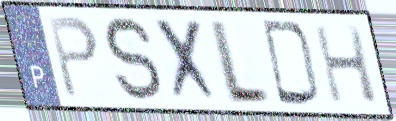D: (259, 17, 323, 109)
H: (310, 23, 381, 106)
L: (209, 17, 273, 107)
P: (44, 14, 101, 102)
S: (102, 13, 165, 105)
X: (152, 15, 223, 106)
